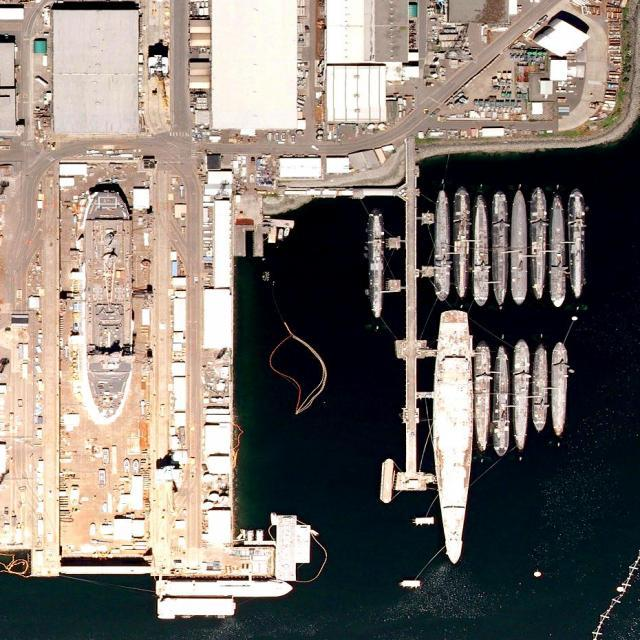Dock: (387, 185, 435, 491)
Other Ship: (83, 189, 134, 418), (156, 581, 295, 597), (279, 228, 284, 240), (284, 228, 290, 237)
Submarine: (548, 196, 568, 306), (471, 196, 490, 305), (472, 344, 491, 450), (568, 189, 586, 297), (531, 344, 549, 431), (494, 347, 508, 456), (514, 341, 528, 450), (493, 191, 506, 303), (512, 191, 525, 303), (532, 186, 545, 297), (456, 189, 468, 298), (551, 343, 565, 434), (436, 191, 447, 300), (372, 215, 382, 318)
